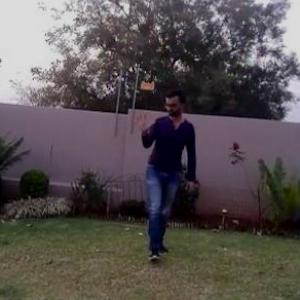follow_hand: (131, 108, 155, 135)
